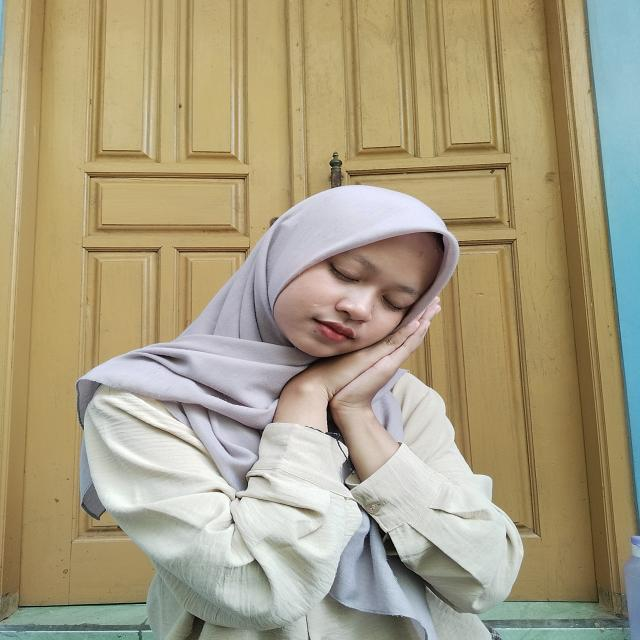tidur: (258, 299, 440, 464)
